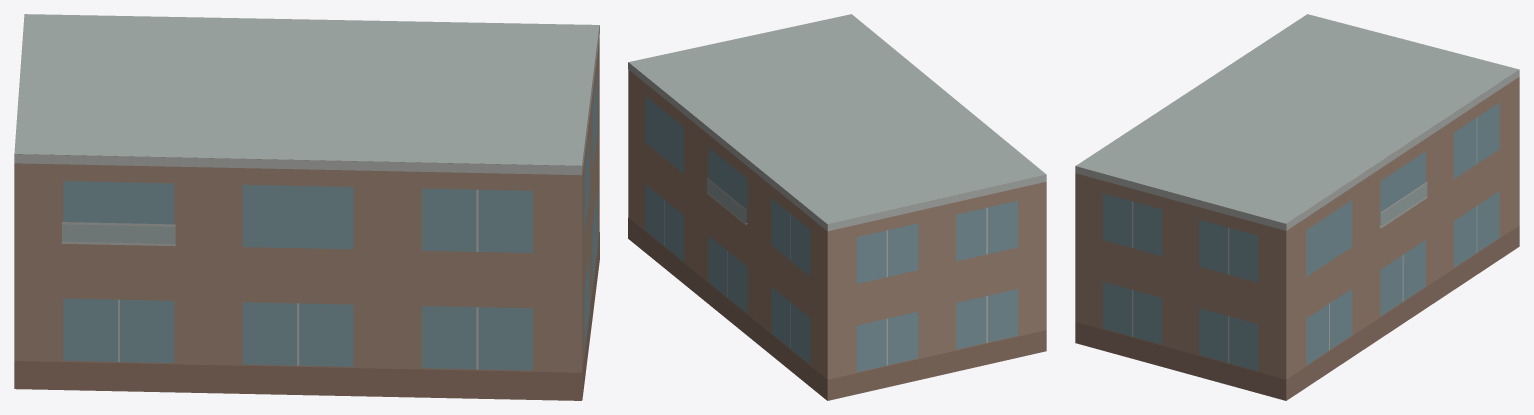
Rendered from survey-upis-32795840.glb.
3 views of the same model, side by side, from view 1: azimuth 30°, elevation 25°; view 2: azimuth 150°, elevation 25°; view 3: azimuth 270°, elevation 25° (orthographic). The views are drawn at different scales.
Parts seen in each view (by area): view 1: survey-upis-32795840.tmp; view 2: survey-upis-32795840.tmp; view 3: survey-upis-32795840.tmp.
Boxes of the visible parts, left/top/right/bottom form: survey-upis-32795840.tmp: left=14, top=14, right=599, bottom=400; survey-upis-32795840.tmp: left=628, top=14, right=1046, bottom=400; survey-upis-32795840.tmp: left=1075, top=14, right=1519, bottom=400.
Bounding box in the file's own units: 15.52 × 6.1 × 13.88.
